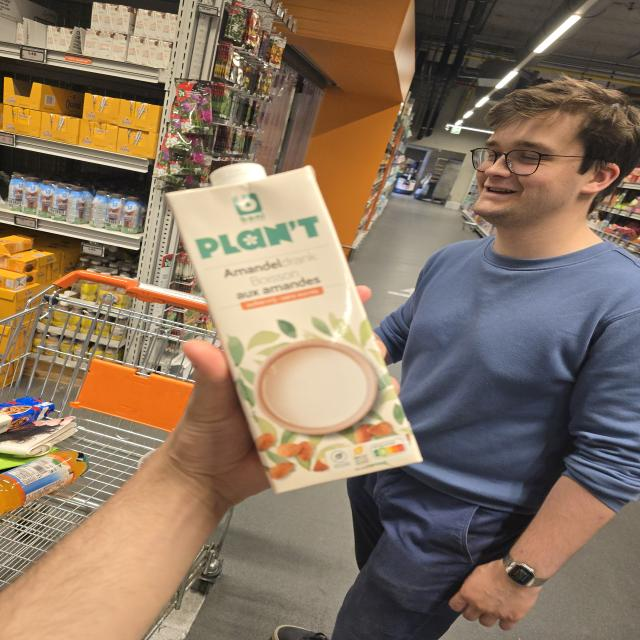Milk: (166, 163, 421, 493)
